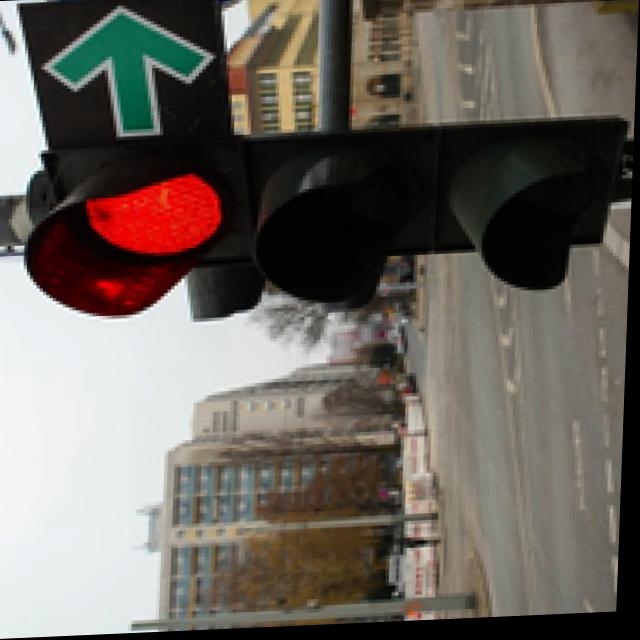red_light: (0, 111, 296, 360)
